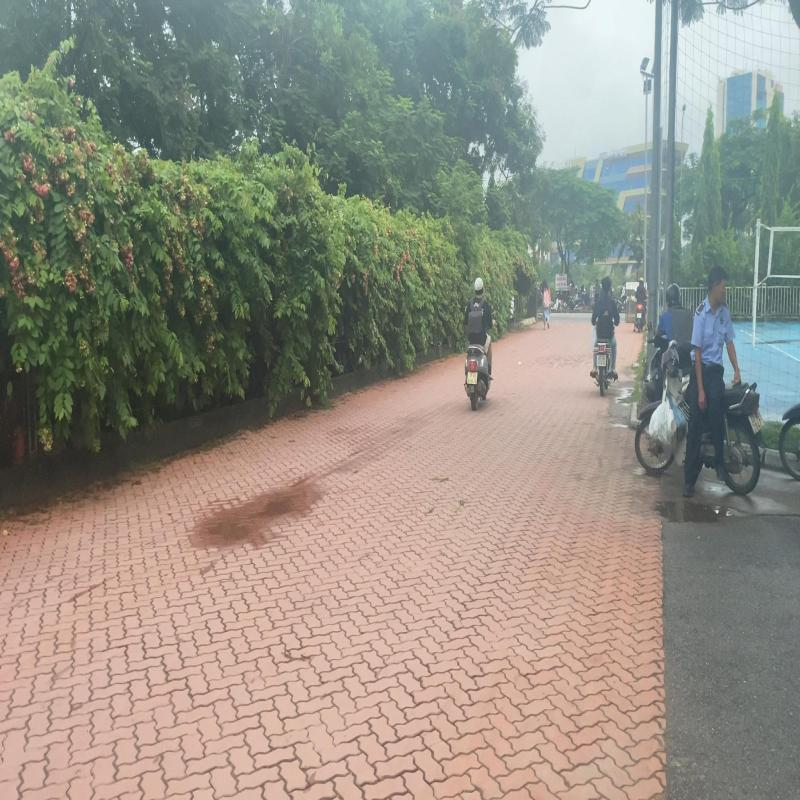licenseplate: (596, 355, 606, 366)
motorcyclist: (589, 274, 621, 397)
nohelmet: (602, 276, 612, 294)
